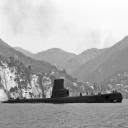submarine: (3, 80, 123, 103)
